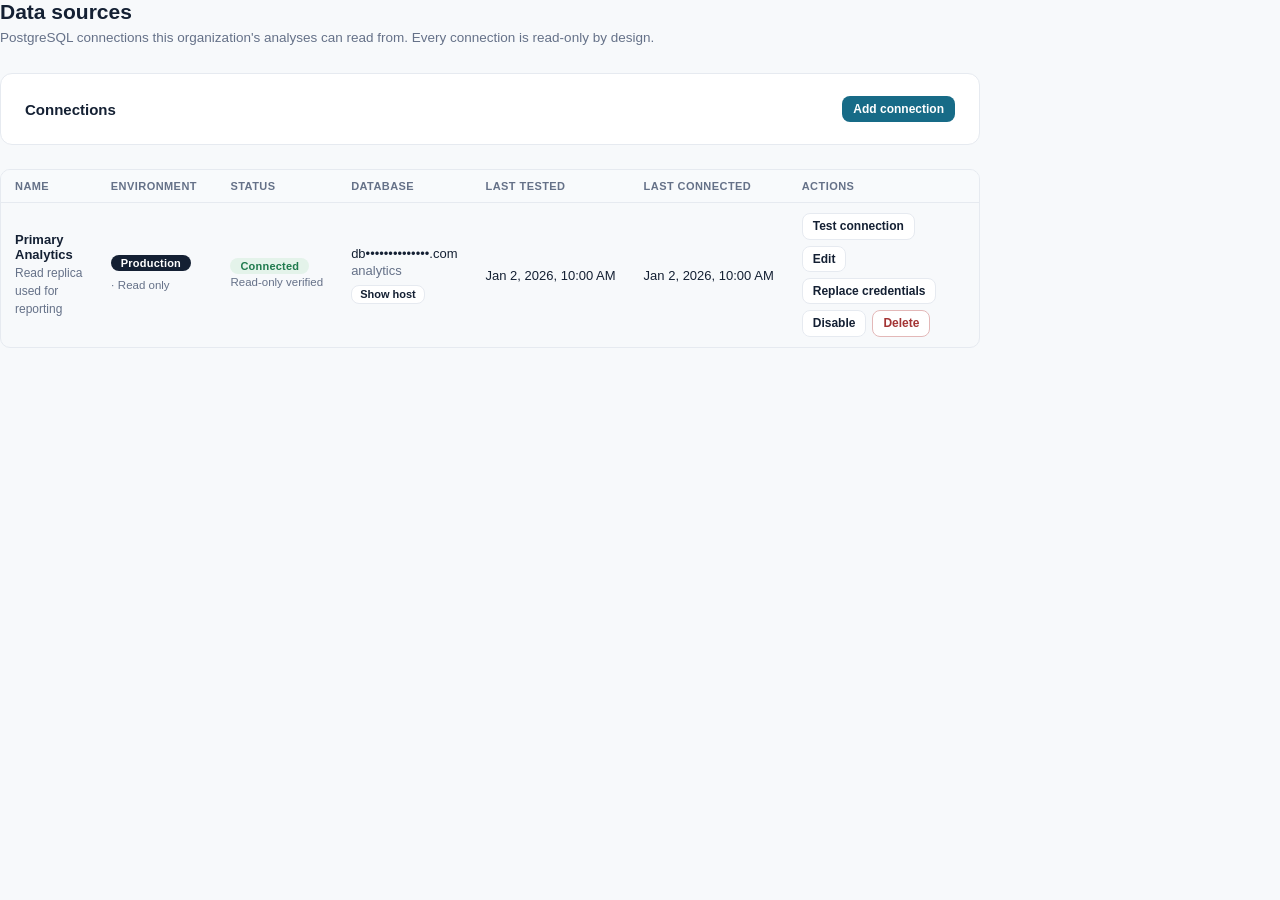
DataSourcesSettings › warns before applying a connection-critical change
Check: the text "Primary Analytics" is shown, box [15, 232, 83, 262]
Click the button "Edit" at coordinates (824, 259), box [802, 246, 846, 272]
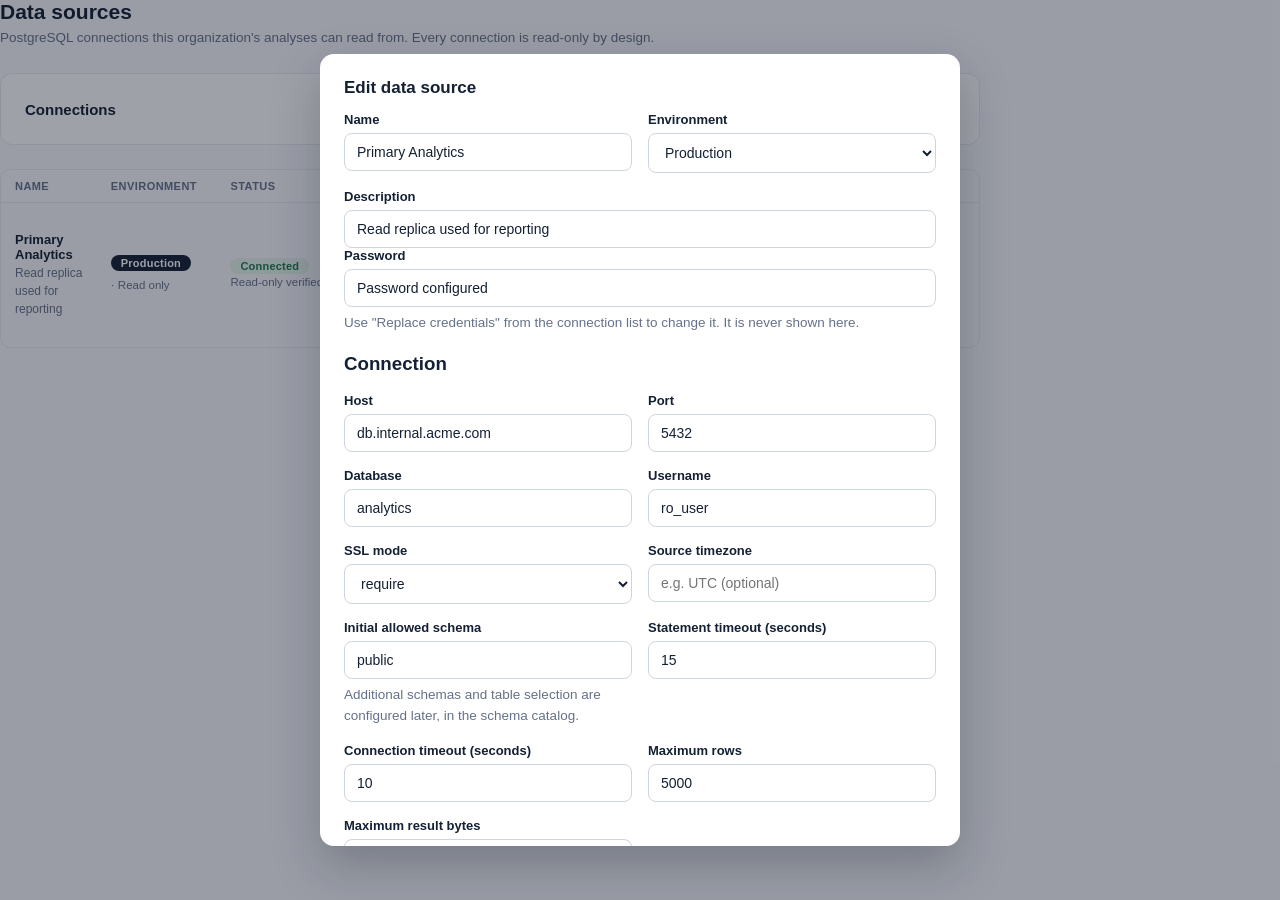
Replace the text in the field labelled "Host" with "new-host.example.com" at coordinates (488, 433), box [344, 414, 632, 452]
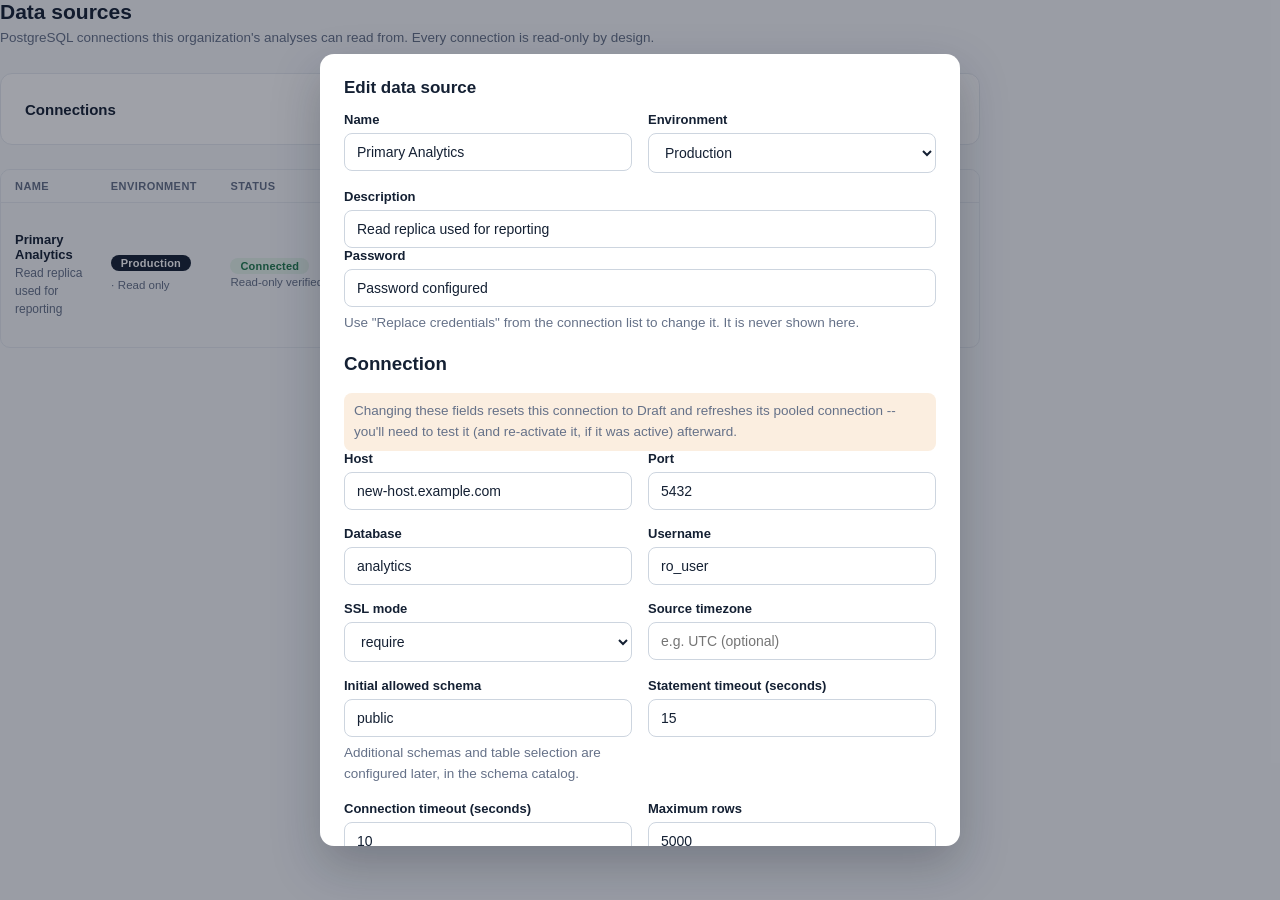
Check: the text "resets this connection to Draft" is shown, box [354, 403, 896, 439]
